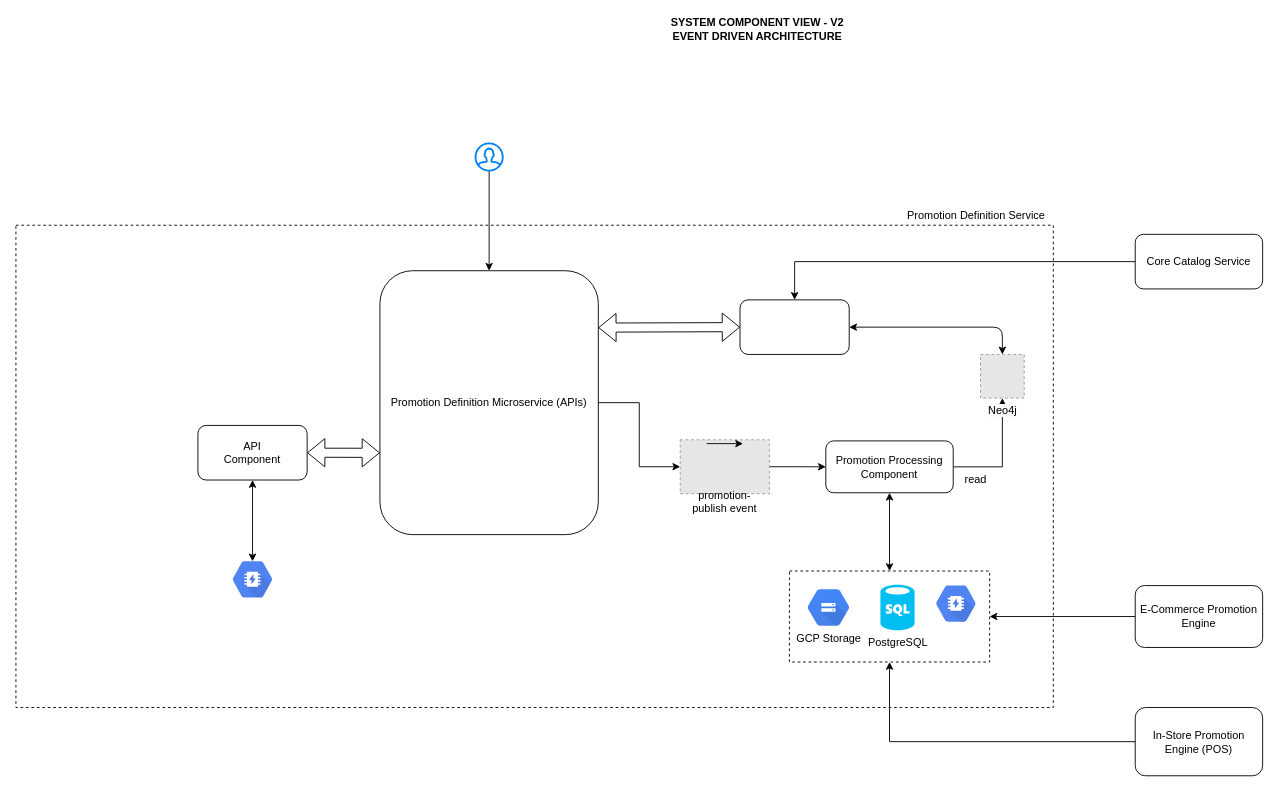
Image size: 1279x792. Some labels were removed from this diagram. Grey dashed boxes stand in for pictures. The box of each missing label's shape, as (x1, y1, x2, y2) in pixels:
Business User: (474, 142, 503, 171)
Catalog Delta Ingestion Component: (739, 299, 849, 354)
Datastore: (222, 552, 282, 606)
Redis: (925, 576, 986, 630)
